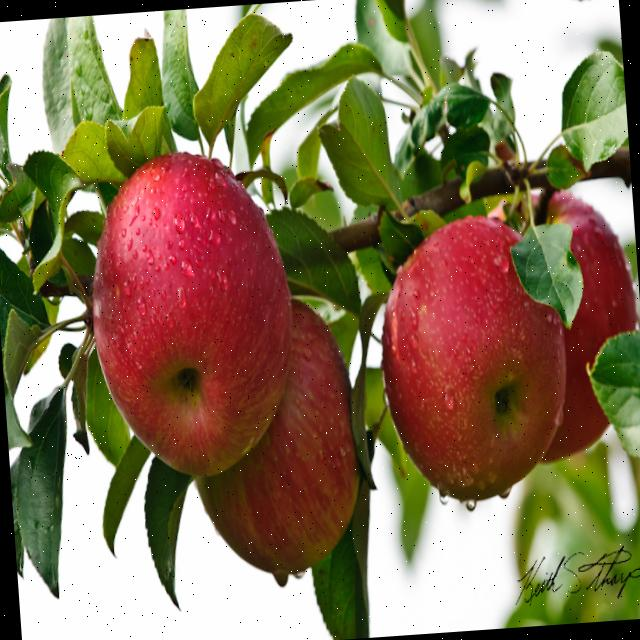Apel: (80, 143, 304, 483), (370, 208, 576, 508), (182, 294, 368, 591), (485, 180, 640, 465)
